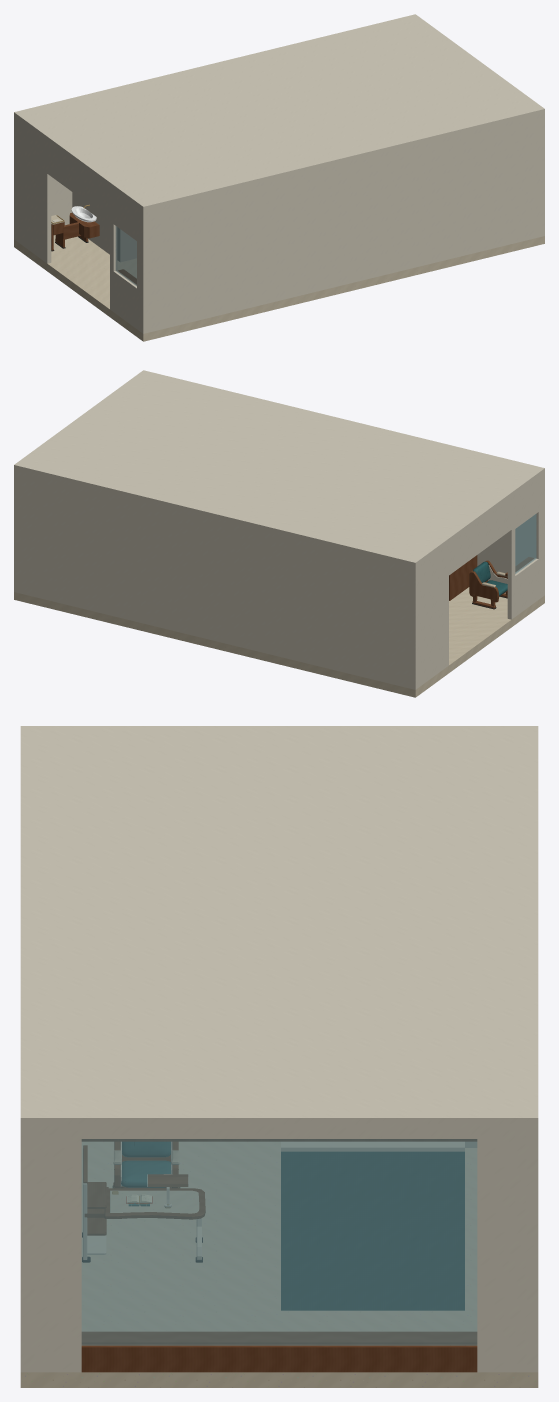
File: QuietGroveSpecialty_129_r001.glb
The picture shows the model from 3 angles, top to bottom: view 1: azimuth 30°, elevation 25°; view 2: azimuth 150°, elevation 25°; view 3: azimuth 270°, elevation 25°; orthographic projection. The views are drawn at different scales.
Visible parts, largest first — view 1: QG129_Ceiling, QG129_NorthSide, QG129_RoomFloor, QG129_EntryShoulderSouth, QG129_EntryHeader, QG129_StreetWindowLower, QG129_StreetWindowUpper, QG129_SouthSide, QG129_ScreenedStreetGlass, QG129_WashEntrySide, QG129_QG129_WashBasin__VAN_WallCabinet; view 2: QG129_Ceiling, QG129_SouthSide, QG129_RoomFloor, QG129_EntryShoulderSouth, QG129_EntryHeader, QG129_NorthSide, QG129_StreetWindowLower, QG129_StreetWindowUpper, QG129_ScreenedStreetGlass, QG129_EntryPrivacyDogleg, QG129_QG129_StreetReadingChair__DAY_CHAIR_L_swept_walnut_che, QG129_StreetWindowInnerMullion; view 3: QG129_Ceiling, QG129_CourtPanoramicGlass, QG129_RoomFloor, QG129_Cocoon01_RearLiner, QG129_CourtJambNorth, QG129_CourtJambSouth, QG129_CourtSill, QG129_CourtHeader, QG129_CourtRevealBottom, QG129_NorthSide, QG129_SouthSide, QG129_Cocoon01_Roof (+4 smaller).
Part boxes in pixels (bbox=[...]): QG129_Ceiling: bbox=[14, 14, 544, 211]; QG129_NorthSide: bbox=[141, 114, 544, 333]; QG129_RoomFloor: bbox=[14, 235, 544, 341]; QG129_EntryShoulderSouth: bbox=[16, 119, 51, 263]; QG129_EntryHeader: bbox=[46, 141, 110, 219]; QG129_StreetWindowLower: bbox=[110, 269, 141, 331]; QG129_StreetWindowUpper: bbox=[110, 188, 141, 243]; QG129_SouthSide: bbox=[14, 117, 72, 240]; QG129_ScreenedStreetGlass: bbox=[115, 226, 136, 285]; QG129_WashEntrySide: bbox=[72, 192, 123, 261]; QG129_QG129_WashBasin__VAN_WallCabinet: bbox=[69, 213, 99, 238]; QG129_Ceiling: bbox=[14, 370, 544, 567]; QG129_SouthSide: bbox=[14, 470, 417, 689]; QG129_RoomFloor: bbox=[14, 587, 544, 697]; QG129_EntryShoulderSouth: bbox=[417, 544, 448, 687]; QG129_EntryHeader: bbox=[449, 497, 512, 575]; QG129_NorthSide: bbox=[477, 473, 544, 596]; QG129_StreetWindowLower: bbox=[507, 556, 542, 619]; QG129_StreetWindowUpper: bbox=[510, 475, 542, 531]; QG129_ScreenedStreetGlass: bbox=[515, 514, 536, 573]; QG129_EntryPrivacyDogleg: bbox=[449, 555, 477, 600]; QG129_QG129_StreetReadingChair__DAY_CHAIR_L_swept_walnut_che: bbox=[469, 571, 498, 602]; QG129_StreetWindowInnerMullion: bbox=[507, 529, 515, 578]; QG129_Ceiling: bbox=[20, 726, 538, 1128]; QG129_CourtPanoramicGlass: bbox=[81, 1139, 477, 1345]; QG129_RoomFloor: bbox=[20, 1142, 538, 1387]; QG129_Cocoon01_RearLiner: bbox=[285, 1152, 460, 1310]; QG129_CourtJambNorth: bbox=[477, 1124, 538, 1372]; QG129_CourtJambSouth: bbox=[20, 1124, 81, 1372]; QG129_CourtSill: bbox=[81, 1344, 477, 1372]; QG129_CourtHeader: bbox=[81, 1124, 477, 1138]; QG129_CourtRevealBottom: bbox=[82, 1332, 476, 1343]; QG129_NorthSide: bbox=[20, 1128, 29, 1372]; QG129_SouthSide: bbox=[529, 1128, 538, 1372]; QG129_Cocoon01_Roof: bbox=[281, 1142, 464, 1151].
Bounding box in the file's own units: 12.9 × 4.14 × 7.2.
Materials: 64 (49 with a texture image).
